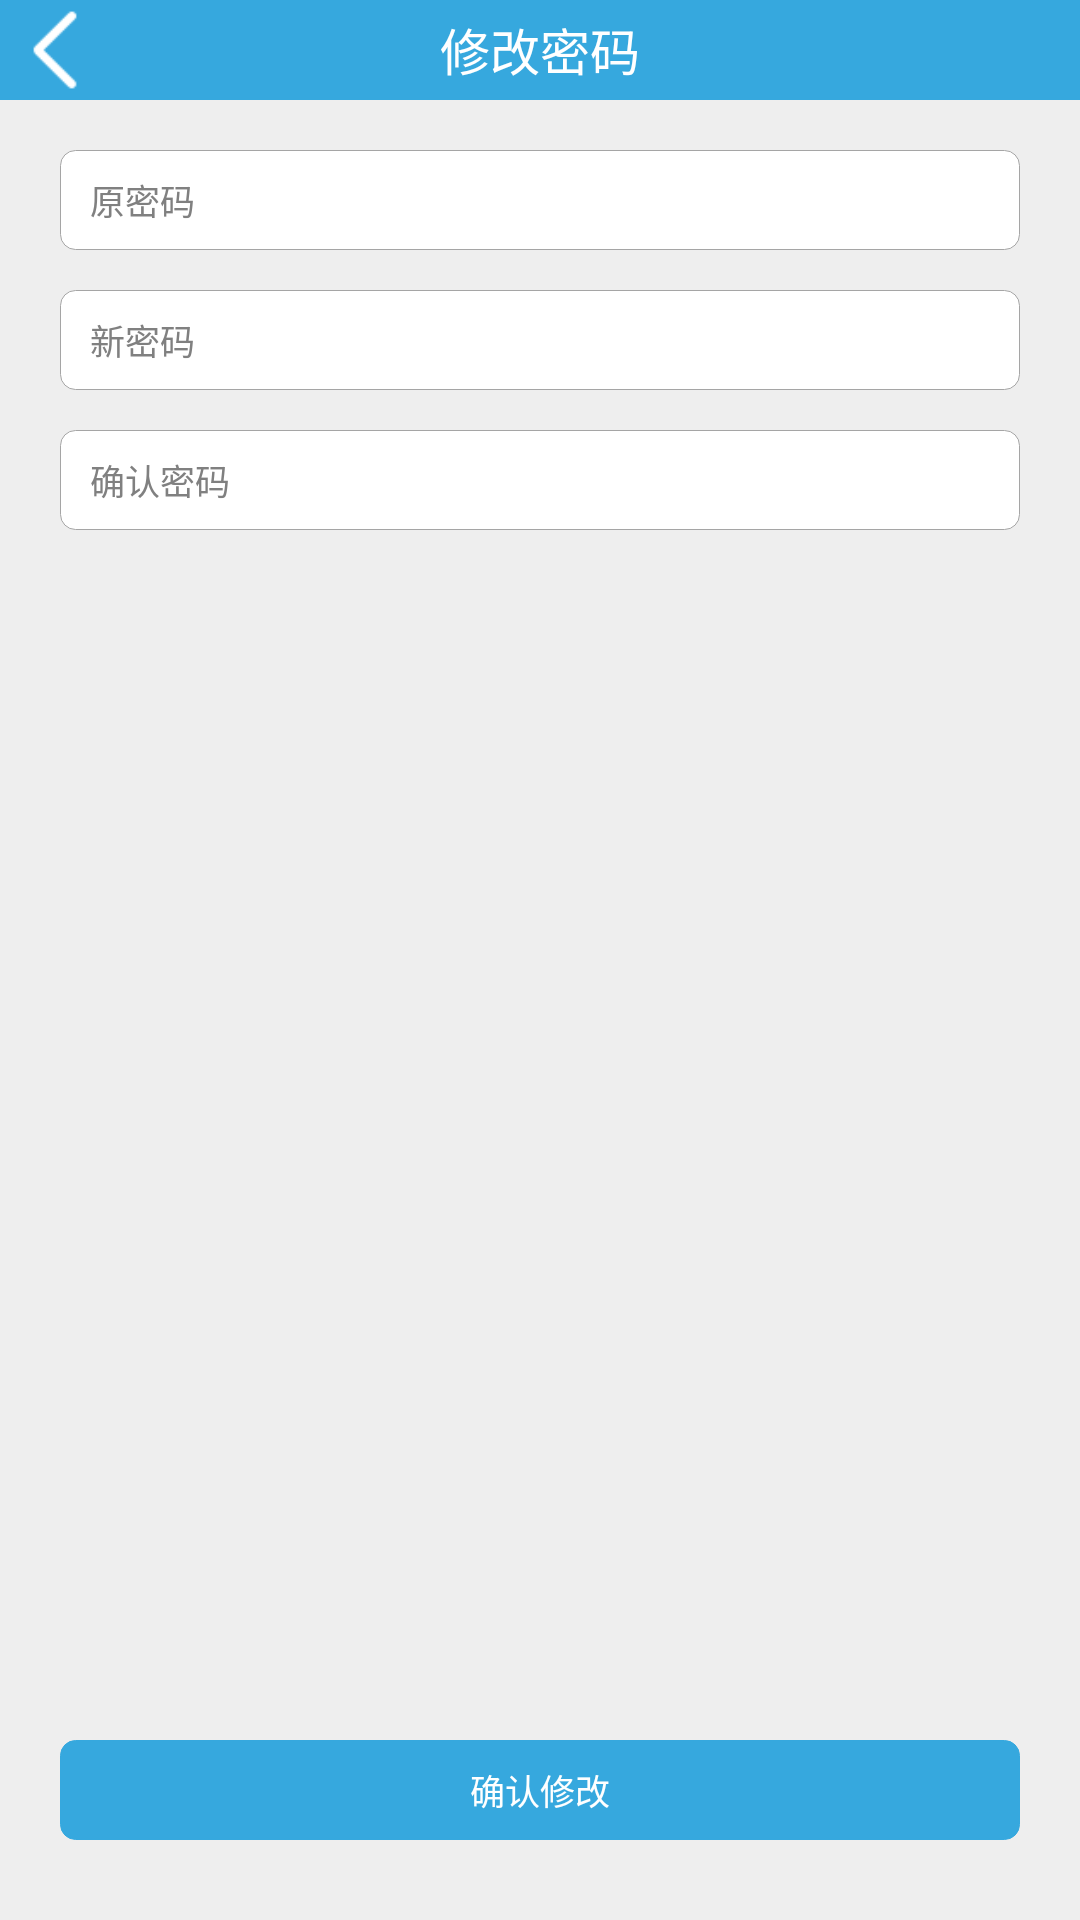

Named icons in this screenshot (1080px×1920px) and their bounding boxes, (x1, y1, x2, y2):
leftarrowicon: (33, 11, 77, 89)
